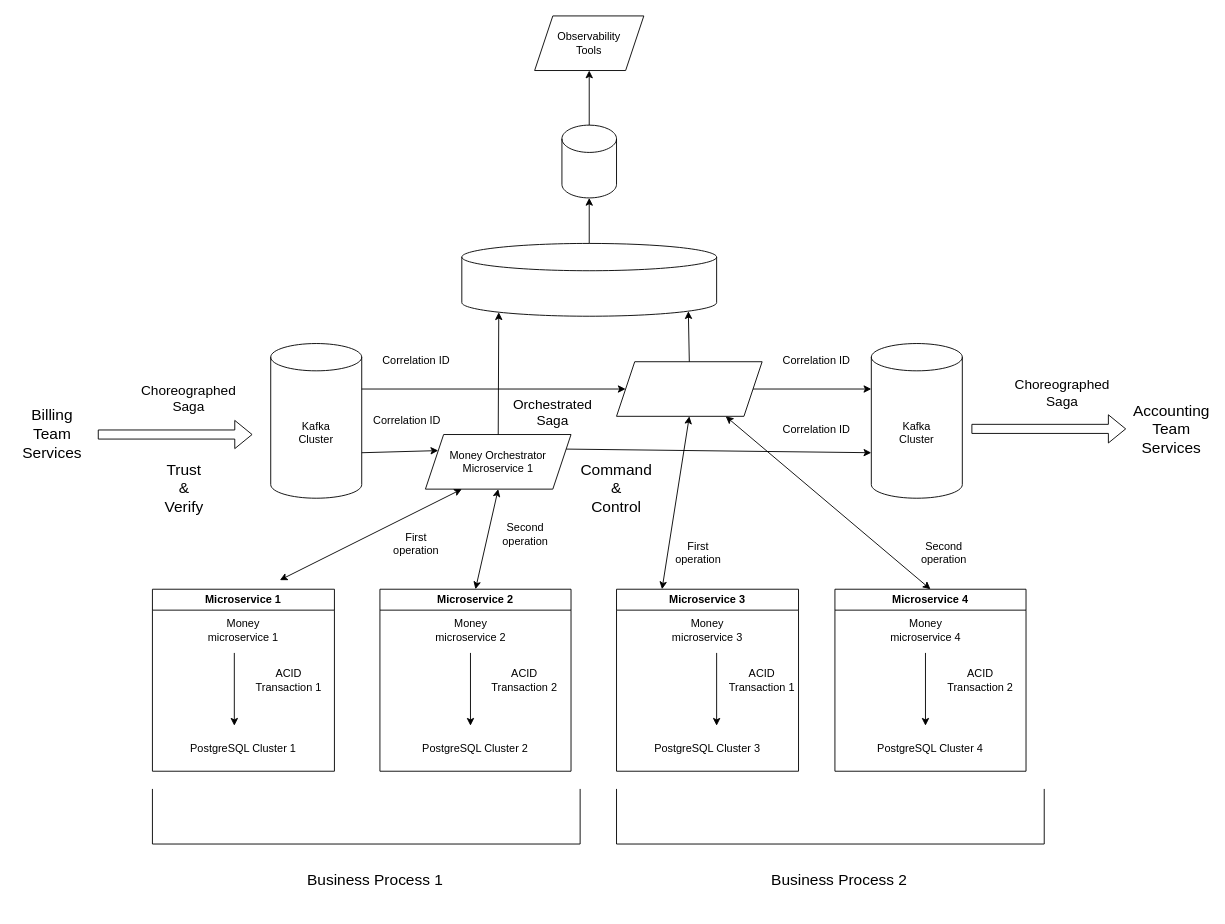
Some shapes in this 1225 by 924 pixel diagram are drawn without their labels. Each missing label, with the centre of its shape:
"Analytics DB" belongs at (x=589, y=161).
"Kafka Cluster Operation Events & Statuses Aggregation" belongs at (x=589, y=279).
"Money Orchestrator Microservice 2" belongs at (x=689, y=388).
